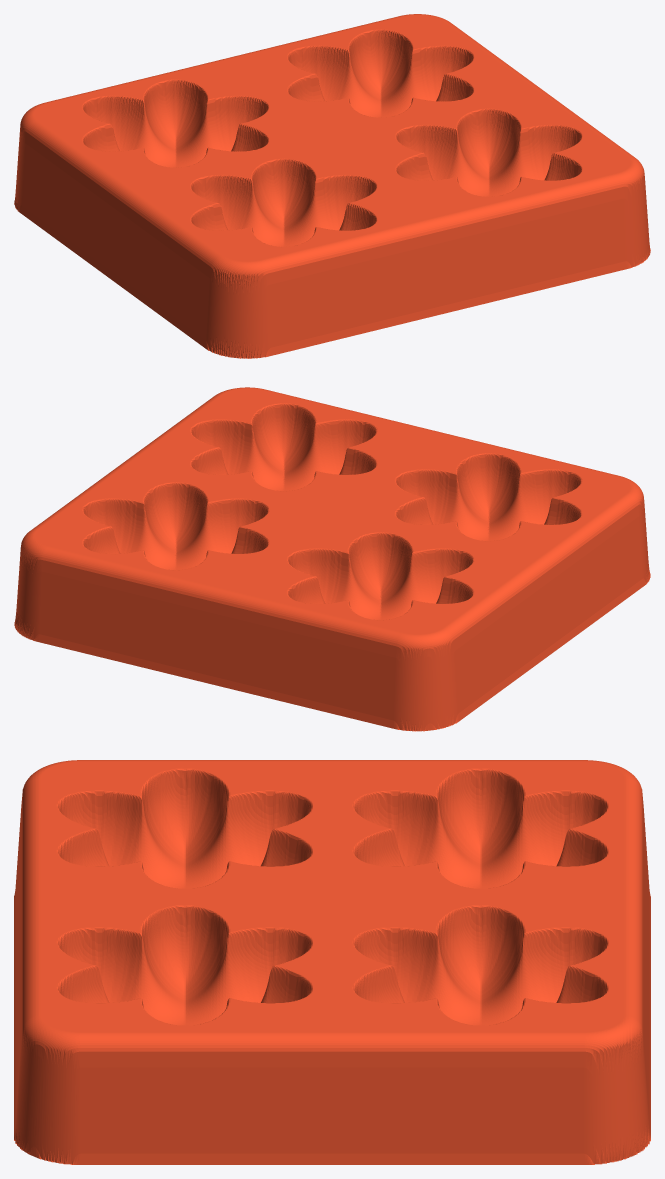
The model's file is mold.glb.
The picture shows the model from 3 angles, top to bottom: view 1: azimuth 30°, elevation 25°; view 2: azimuth 150°, elevation 25°; view 3: azimuth 270°, elevation 25°; orthographic projection. The views are drawn at different scales.
Parts seen in each view (by area): view 1: geometry_0; view 2: geometry_0; view 3: geometry_0.
Part boxes in pixels (left/top/right/bottom): geometry_0: left=14, top=14, right=650, bottom=358; geometry_0: left=14, top=387, right=650, bottom=731; geometry_0: left=14, top=760, right=650, bottom=1164.
Size of the model in its own units: 0.0942 by 0.0182 by 0.0866.
